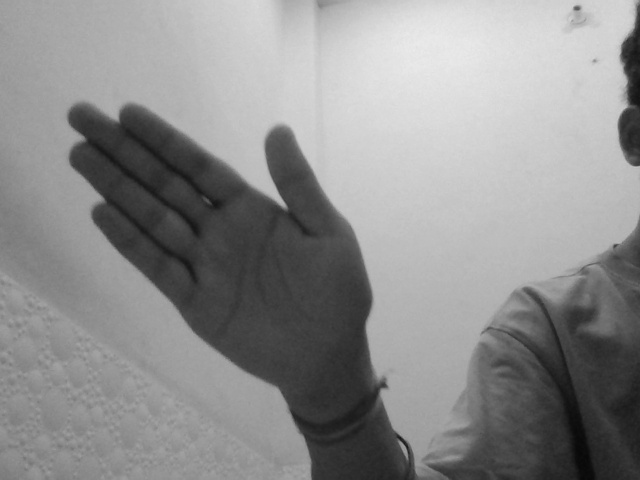Hello: (65, 91, 381, 404)
